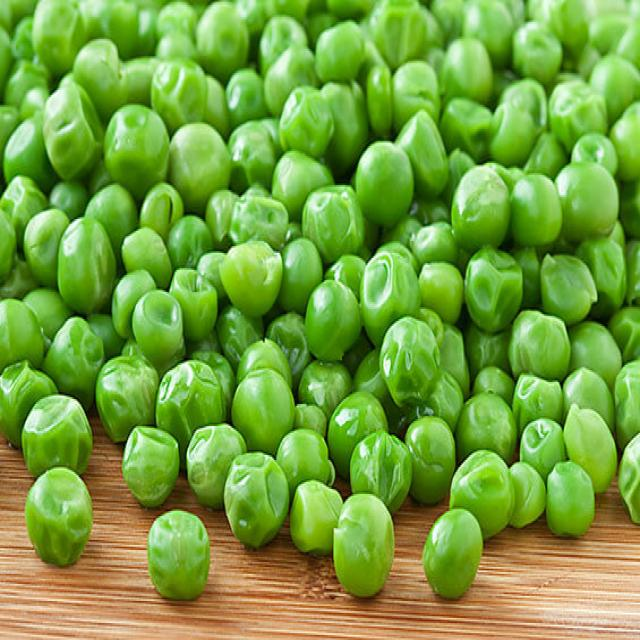pea: (0, 0, 640, 519)
